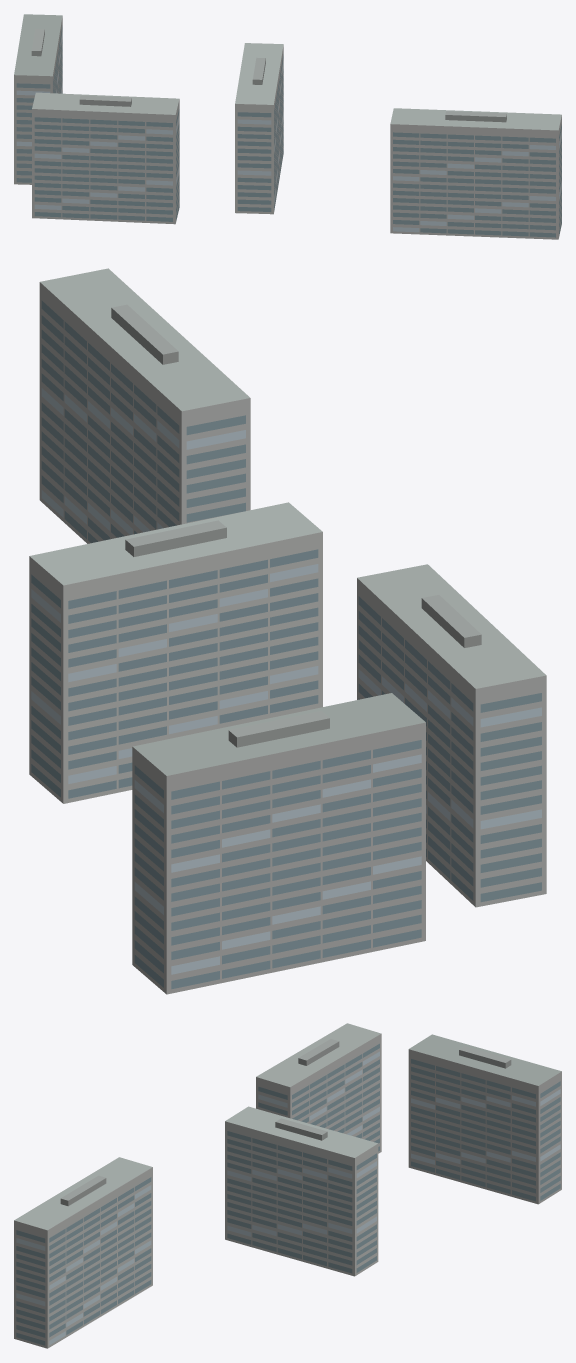
Rendered from apt-a13905208.glb.
3 views of the same model, one above another, from view 1: azimuth 30°, elevation 25°; view 2: azimuth 150°, elevation 25°; view 3: azimuth 270°, elevation 25° (orthographic). The views are drawn at different scales.
Visible parts, largest first — view 1: apt-a13905208; view 2: apt-a13905208; view 3: apt-a13905208.
Part boxes in pixels (box(x1,y1,x2,y2)): apt-a13905208: box(14, 14, 561, 239); apt-a13905208: box(29, 268, 546, 994); apt-a13905208: box(14, 1023, 561, 1348).
Bounding box in the file's own units: 143 × 40 × 160.
